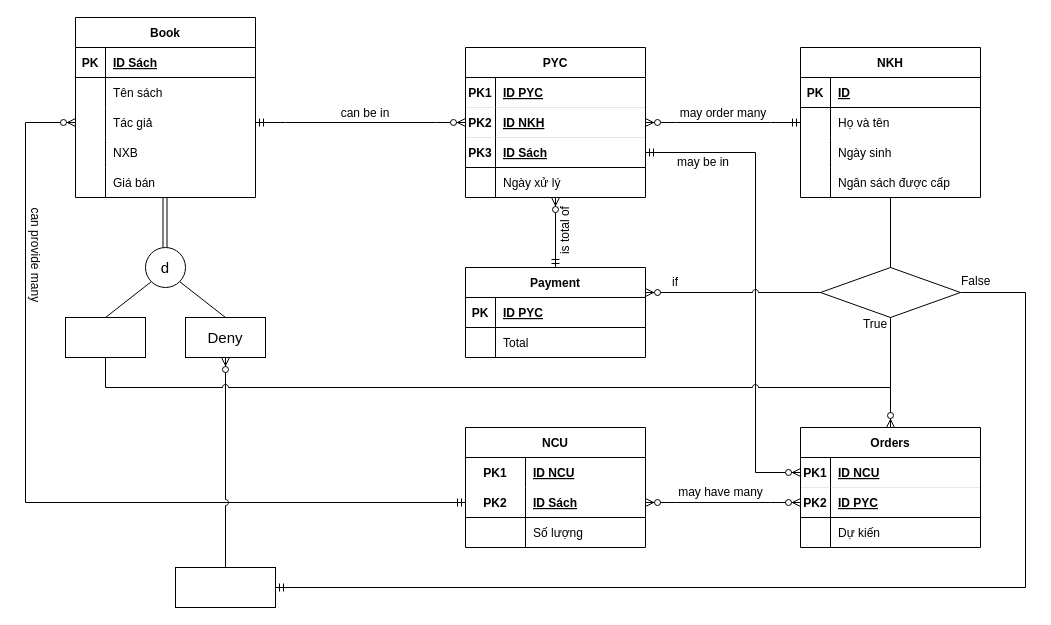
Some shapes in this 1051 by 625 pixel diagram are drawn without their labels. The shapes that lost their labels are listed below. From the top down, each one's centre as x and y in pixels, then its label:
(x=890, y=292): Total < Ngân sách
(x=105, y=337): Allow
(x=225, y=587): Adjustment notice
